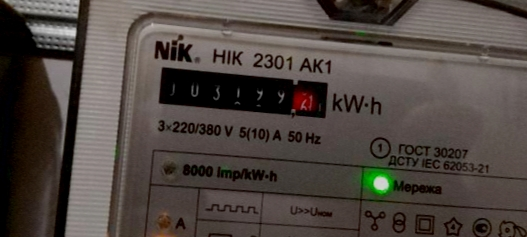0: (190, 77, 203, 97), (167, 76, 178, 94)
1: (234, 79, 245, 98)
3: (212, 79, 224, 100)
6: (300, 94, 311, 109)
9: (255, 80, 267, 101), (277, 85, 289, 104)
screen: (152, 53, 339, 127)
